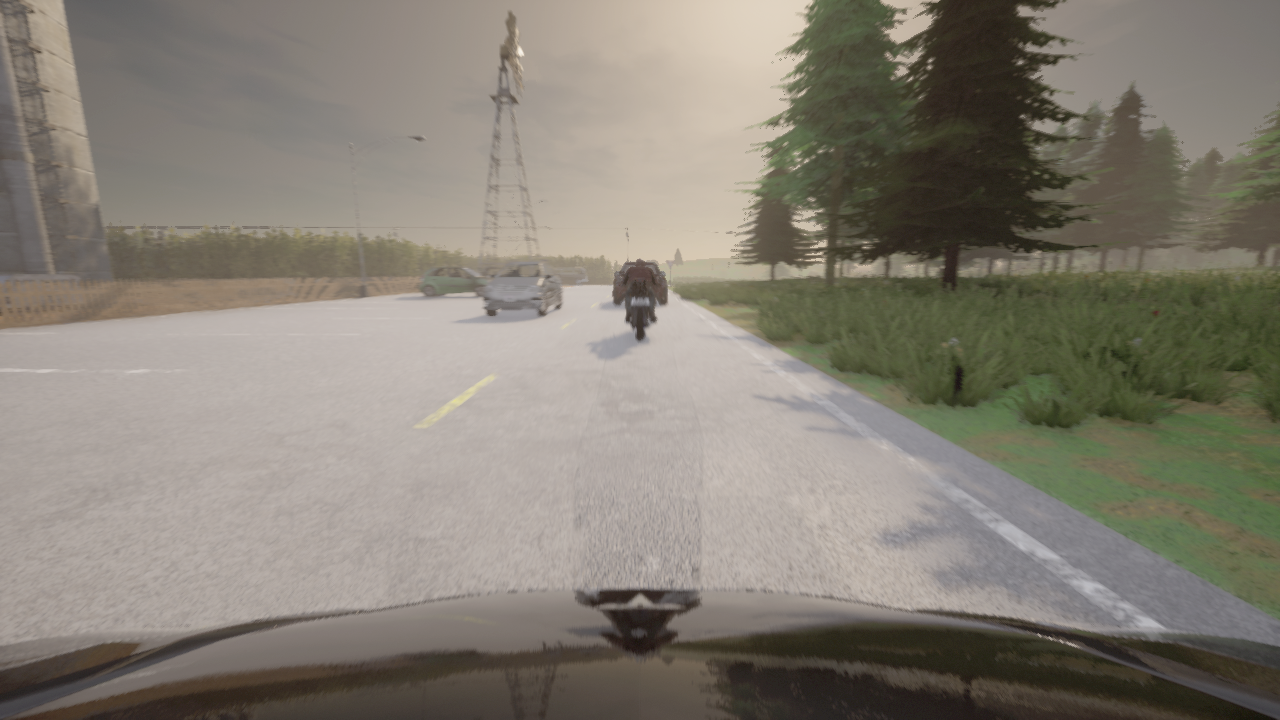cyclist: (0, 588, 1279, 719), (482, 261, 562, 316), (620, 274, 659, 340), (613, 262, 666, 304), (419, 267, 491, 296), (481, 266, 501, 277)
